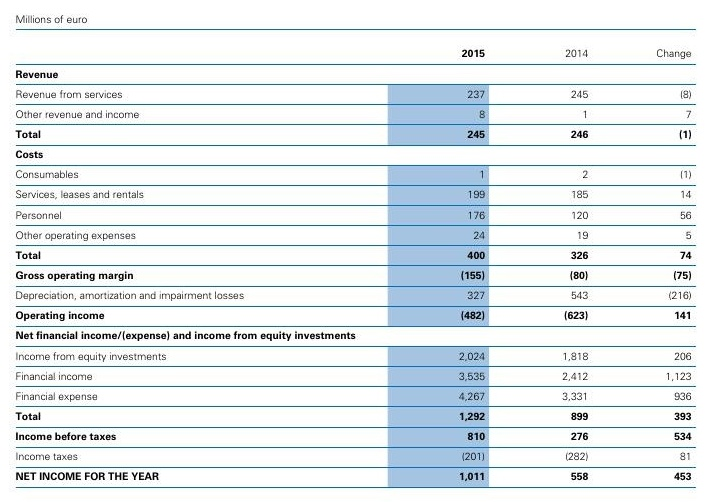table: (0, 0, 716, 502)
